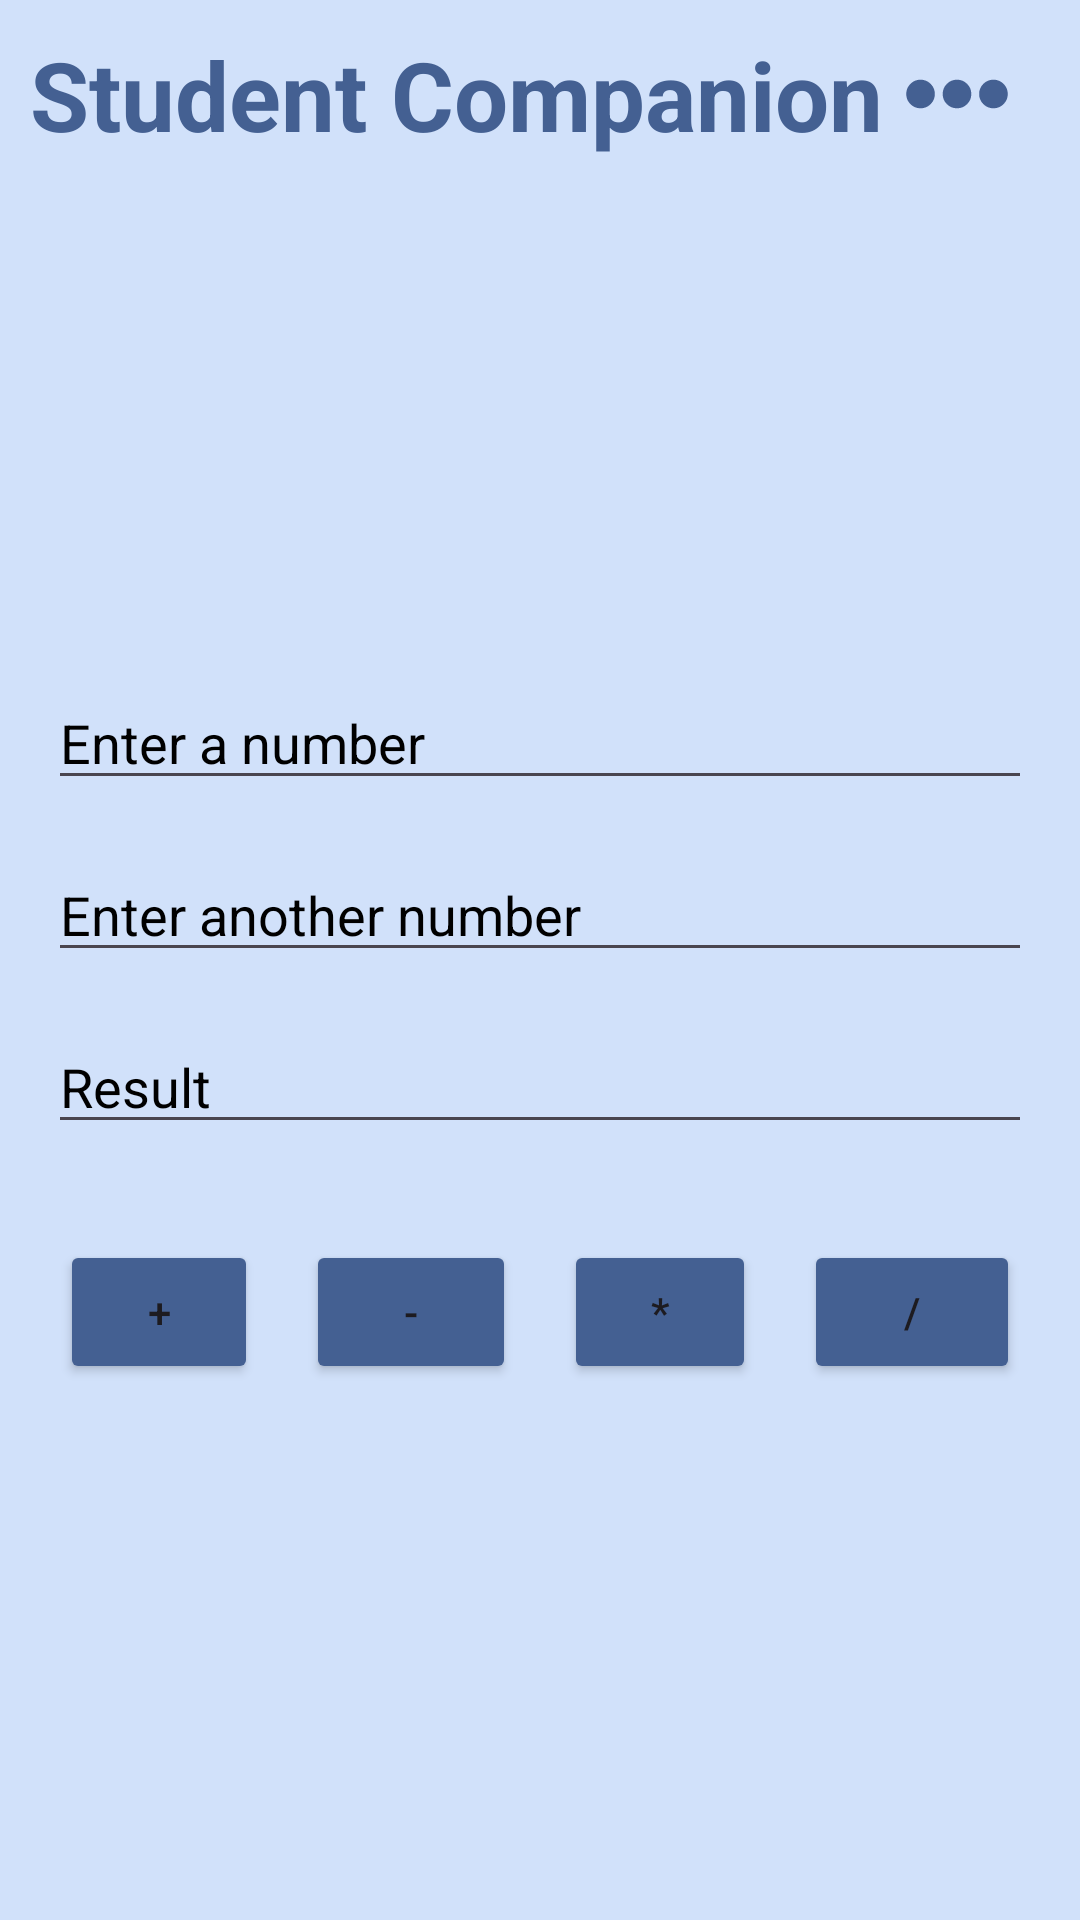

Icons on this 1080 x 1920 Android screen, each with its box as (x1, y1, x2, y2):
meatballs: (906, 79, 1008, 109)
